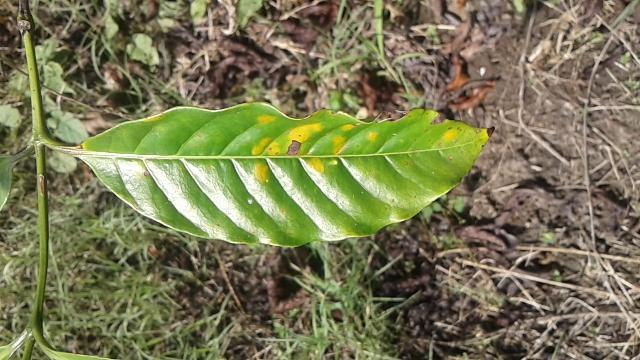rust_level_2: (66, 98, 502, 252)
